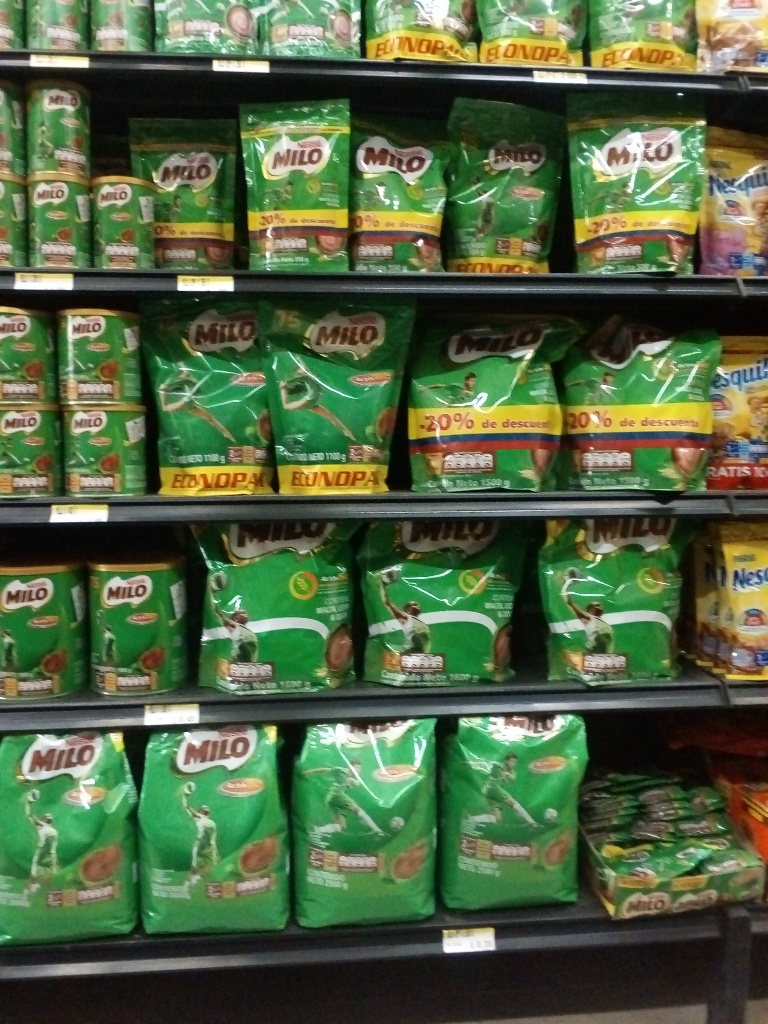COL0170203DYP25000: (138, 117, 242, 267)
COL0170203DYP50000: (455, 100, 573, 275)
COL0170203LAT20000: (90, 173, 162, 270)
COL0170203LAT40000: (57, 413, 148, 492)
COL0170303DYP20000: (719, 331, 766, 490)
COL0170305DYP20000: (708, 116, 768, 279)
